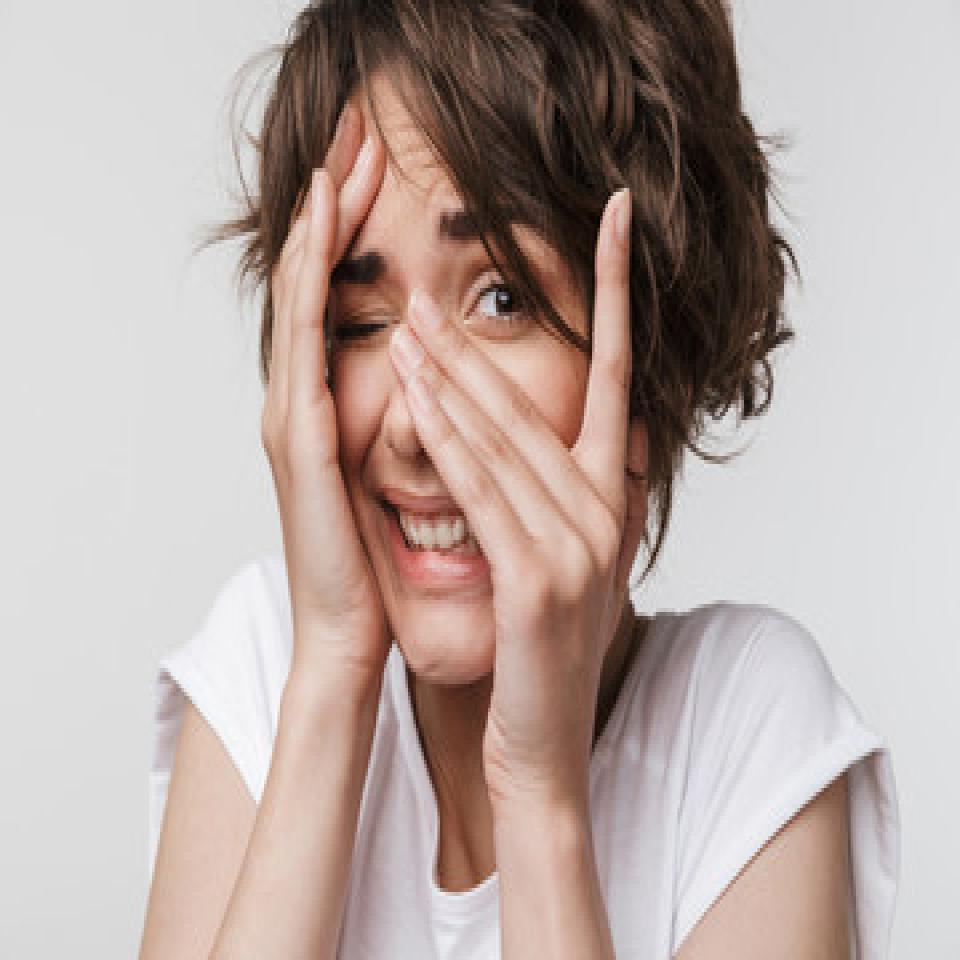Scared: (259, 109, 652, 685)
